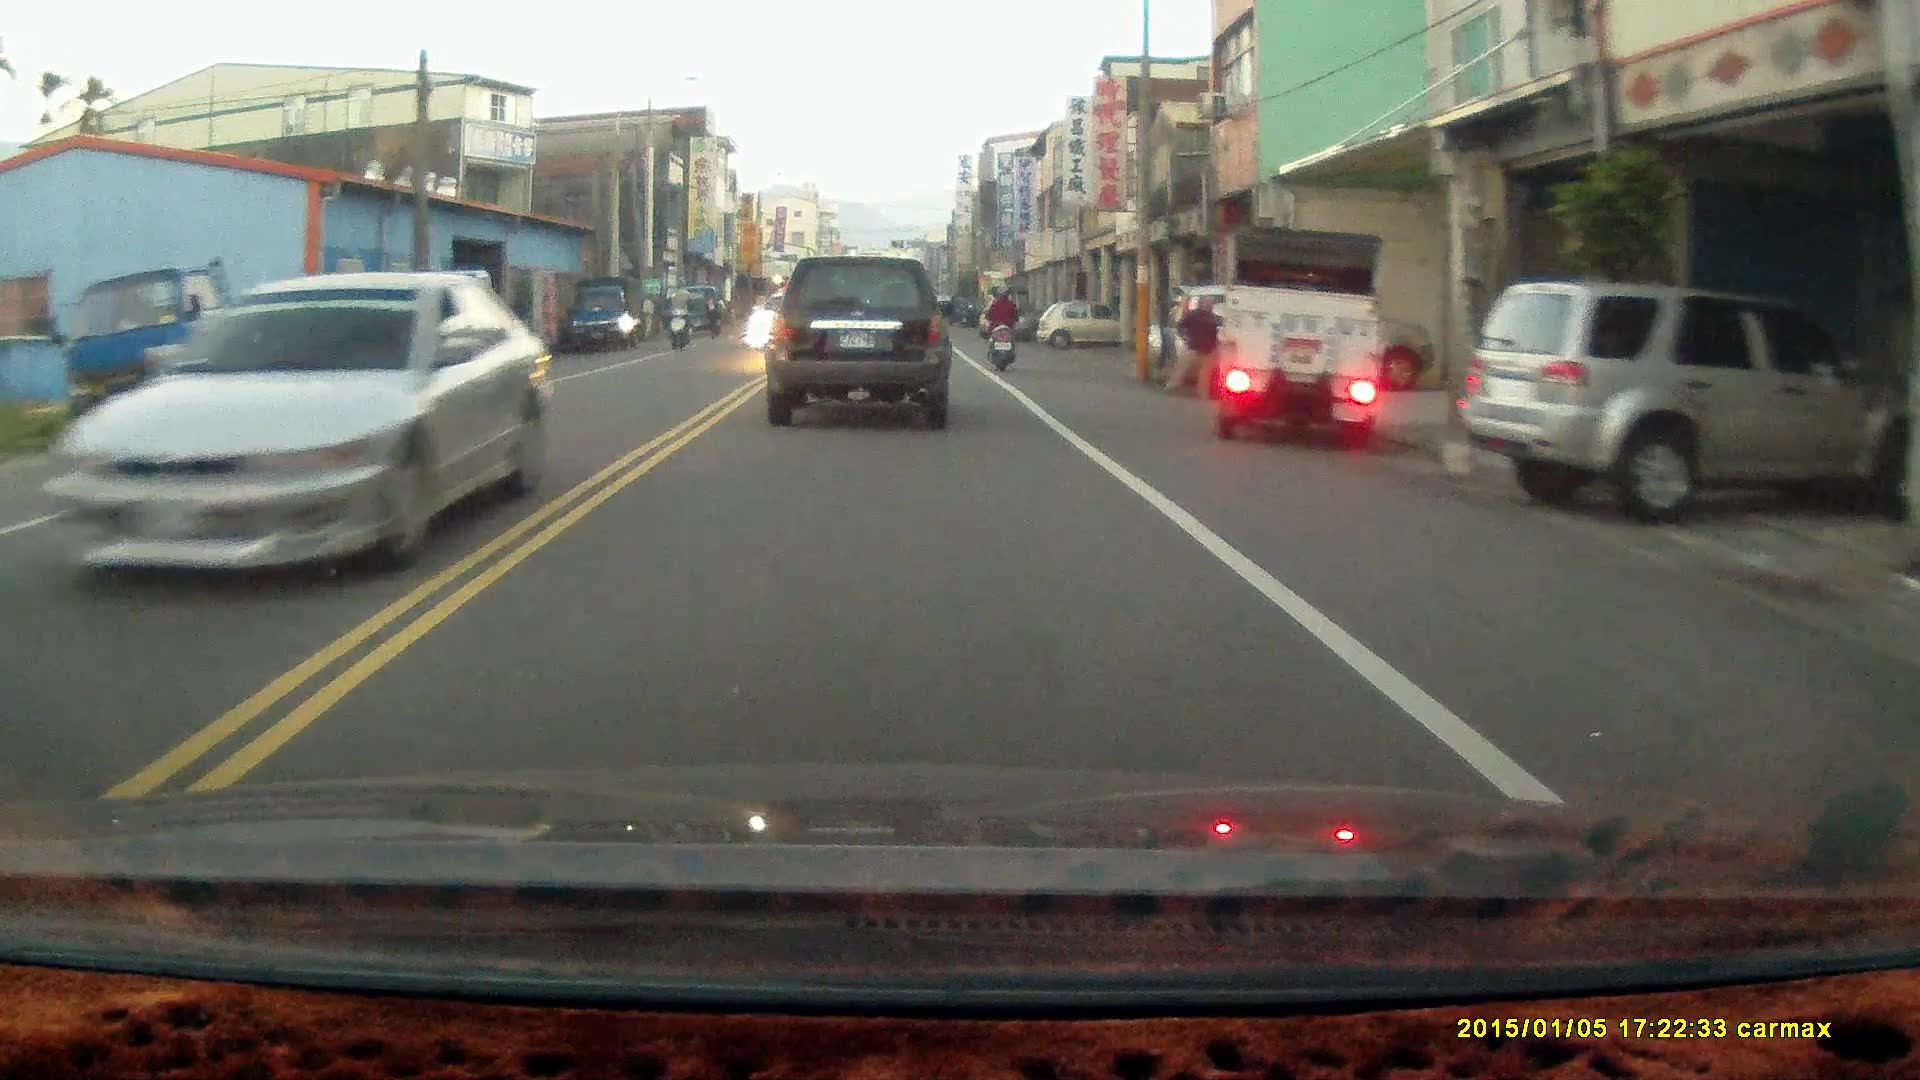pedestrian: (1163, 293, 1218, 400), (703, 290, 723, 338)
rider: (982, 280, 1018, 370), (663, 278, 696, 350)
vehicle: (37, 268, 542, 594), (1469, 279, 1907, 515), (1208, 225, 1386, 446), (1142, 277, 1439, 400), (766, 251, 955, 427), (570, 273, 645, 353), (1041, 302, 1119, 355)
